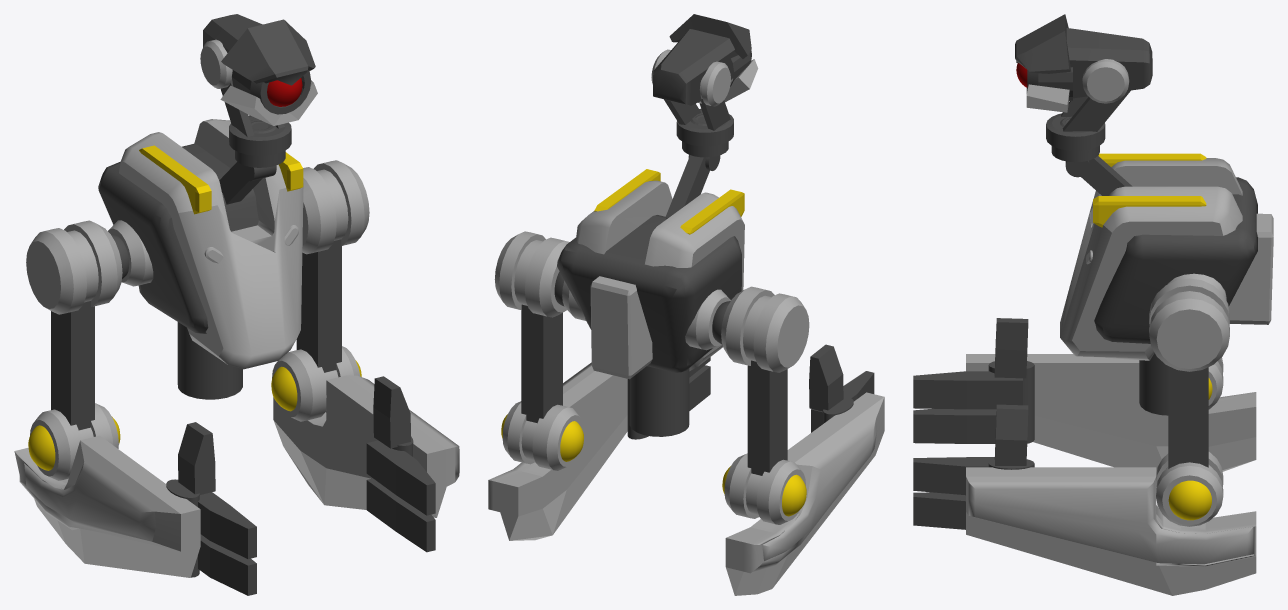
Rendered from CH_E_Robot_SK.fbx.
3 views of the same model, side by side, from view 1: azimuth 30°, elevation 25°; view 2: azimuth 150°, elevation 25°; view 3: azimuth 270°, elevation 25° (orthographic). The views are drawn at different scales.
Parts seen in each view (by area): view 1: enemy_robot; view 2: enemy_robot; view 3: enemy_robot.
Boxes of the visible parts, x1,y1,x2,y2 form: enemy_robot: [14, 14, 459, 595]; enemy_robot: [488, 14, 884, 595]; enemy_robot: [913, 14, 1273, 595].
Bounding box in the file's own units: 78.24 × 126 × 79.19.
